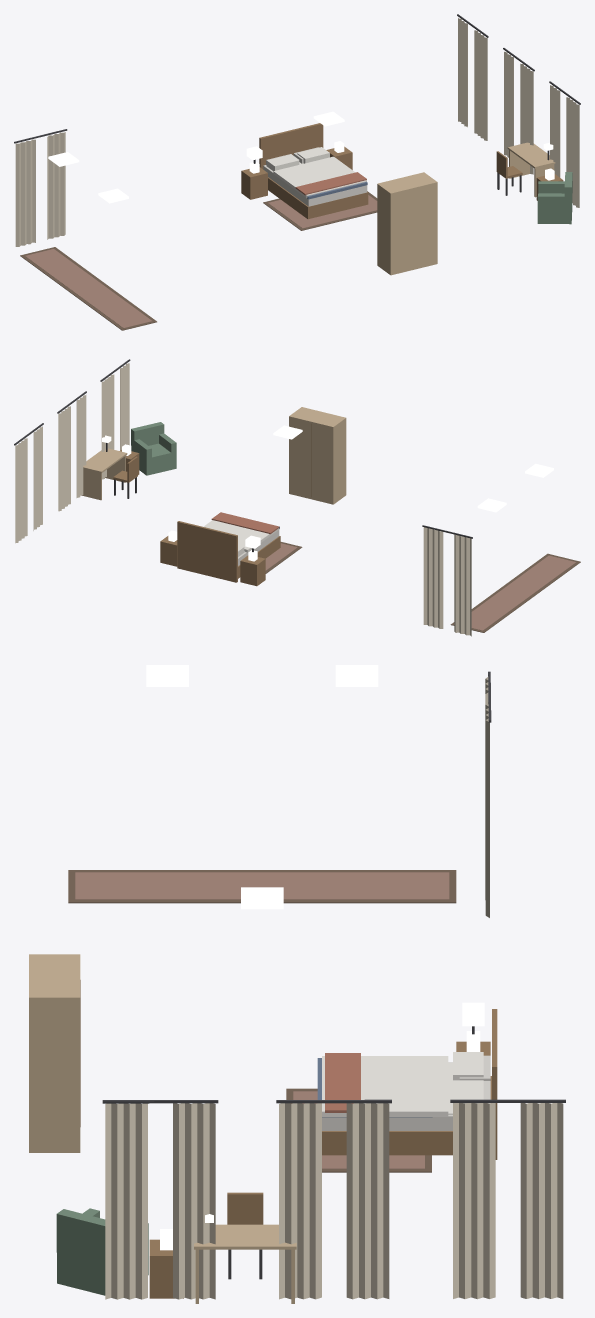
The model's file is fine-s2.glb.
The picture shows the model from 3 angles, top to bottom: view 1: azimuth 30°, elevation 25°; view 2: azimuth 150°, elevation 25°; view 3: azimuth 270°, elevation 25°; orthographic projection. The views are drawn at different scales.
Visible parts, largest first — view 1: soft-s2, dresser.001, bed-frame.001, lounge-chair.001, writing-desk.001, nightstand.002, cafe-chair.001; view 2: soft-s2, dresser.001, bed-frame.001, lounge-chair.001, writing-desk.001, nightstand.002, nightstand.003, cafe-chair.001; view 3: soft-s2, dresser.001, bed-frame.001, lounge-chair.001, writing-desk.001, side-table.001, cafe-chair.001, ceiling-lamp.007, ceiling-lamp.005, ceiling-lamp.006.
Part boxes in pixels (bbox=[...]): soft-s2: bbox=[14, 14, 580, 330]; dresser.001: bbox=[377, 172, 437, 275]; bed-frame.001: bbox=[259, 123, 368, 219]; lounge-chair.001: bbox=[537, 172, 572, 224]; writing-desk.001: bbox=[507, 142, 555, 197]; nightstand.002: bbox=[241, 161, 267, 199]; cafe-chair.001: bbox=[496, 151, 522, 195]; soft-s2: bbox=[14, 359, 580, 636]; dresser.001: bbox=[289, 407, 346, 504]; bed-frame.001: bbox=[177, 521, 280, 582]; lounge-chair.001: bbox=[131, 422, 176, 475]; writing-desk.001: bbox=[81, 435, 127, 500]; nightstand.002: bbox=[240, 550, 265, 586]; nightstand.003: bbox=[160, 530, 177, 566]; cafe-chair.001: bbox=[113, 456, 137, 498]; soft-s2: bbox=[68, 671, 565, 1299]; dresser.001: bbox=[29, 954, 80, 1152]; bed-frame.001: bbox=[317, 1009, 497, 1159]; lounge-chair.001: bbox=[56, 1208, 148, 1295]; writing-desk.001: bbox=[194, 1209, 296, 1303]; side-table.001: bbox=[149, 1229, 183, 1298]; cafe-chair.001: bbox=[227, 1192, 263, 1279]; ceiling-lamp.007: bbox=[241, 887, 283, 909]; ceiling-lamp.005: bbox=[335, 665, 378, 686]; ceiling-lamp.006: bbox=[146, 665, 188, 686].
Bounding box in the file's own units: 11.99 × 2.75 × 6.27.
